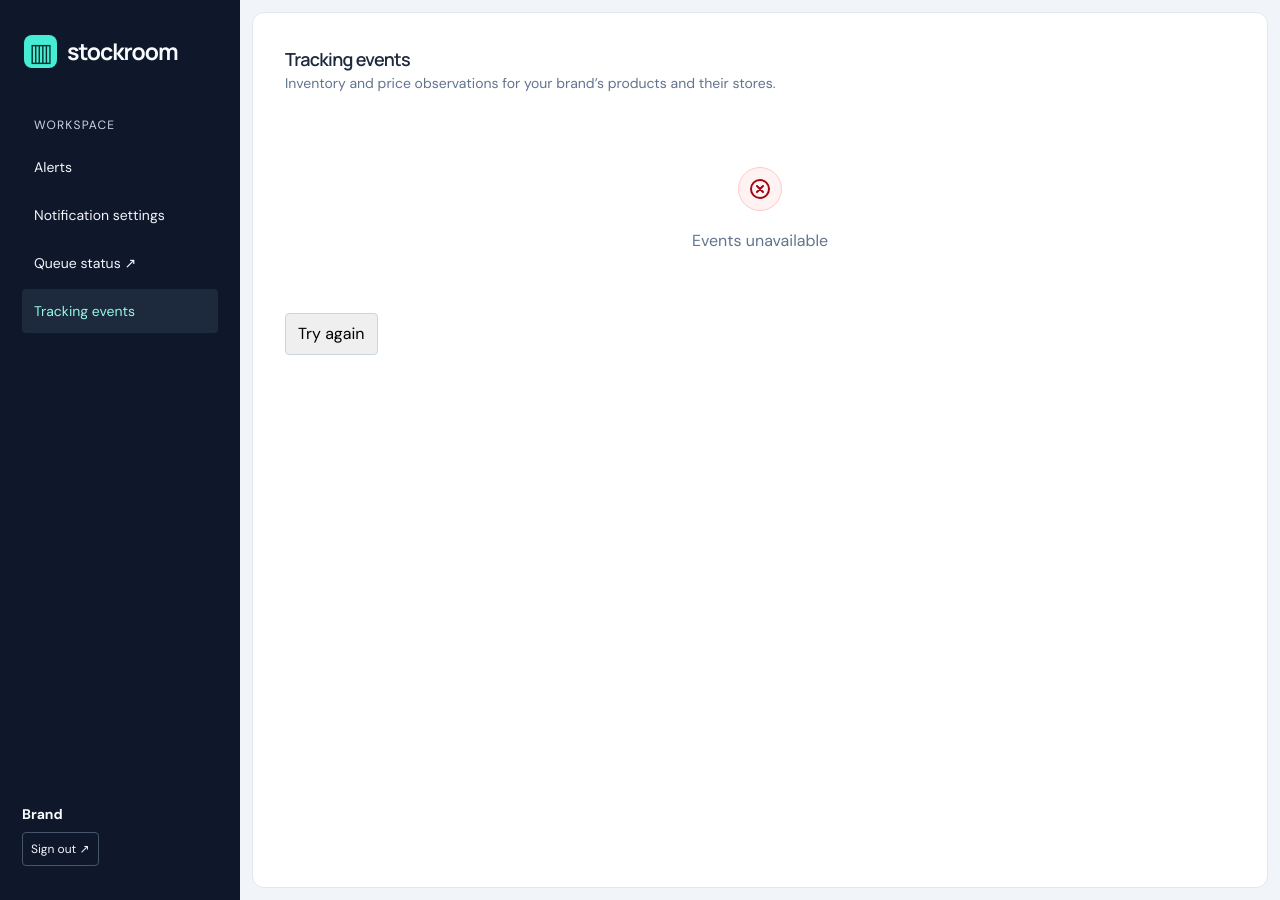
it: retries failed loading and handles an empty collection
Check: the message reads "Events unavailable", box [692,230,828,251]
Click the button "Try again". click: coordinates (331, 334)
box: [285,313,378,355]
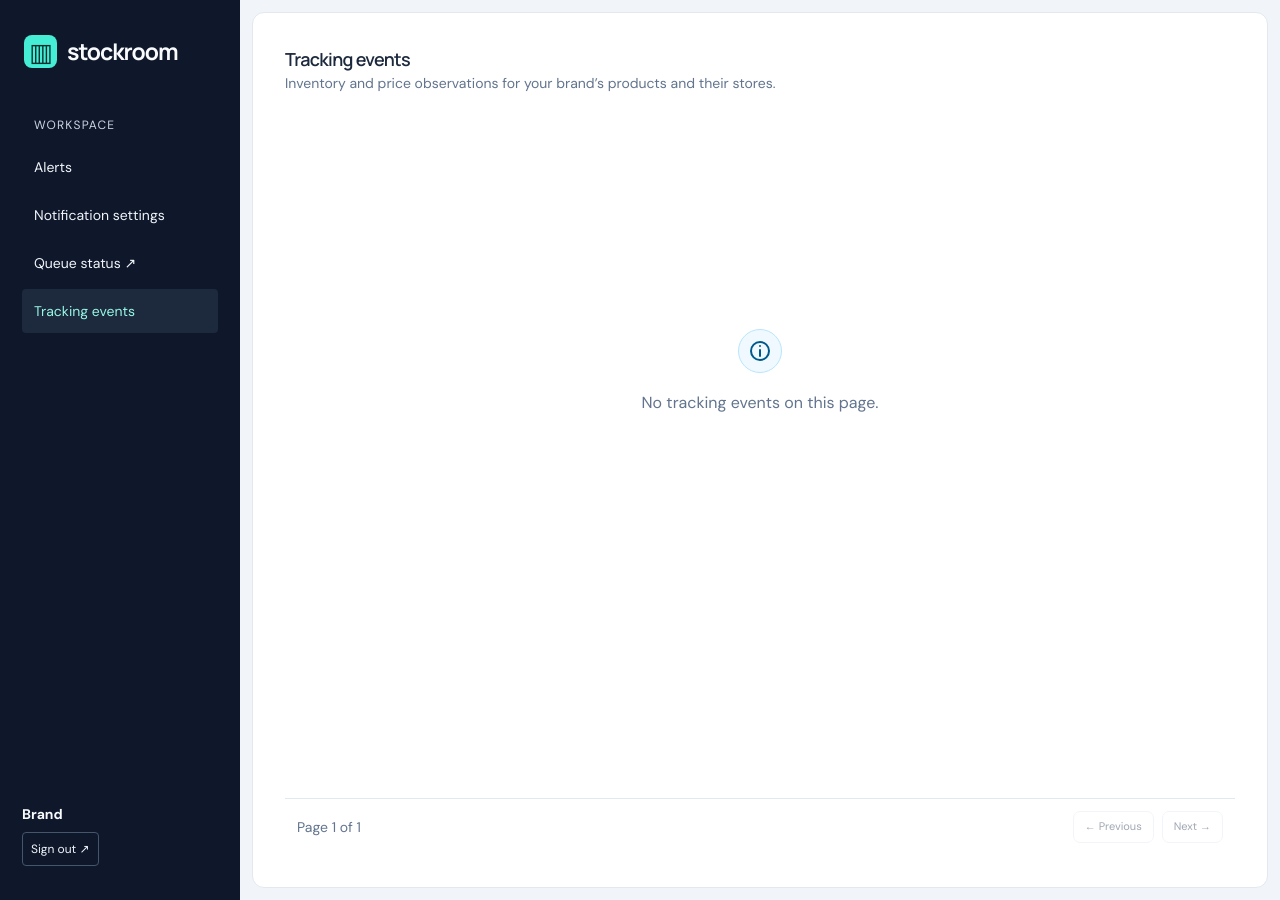
Check: the text "No tracking events on this page." is shown, box [642,391,878,415]
Check: the button "Next →" is disabled, box [1162,811,1223,843]
